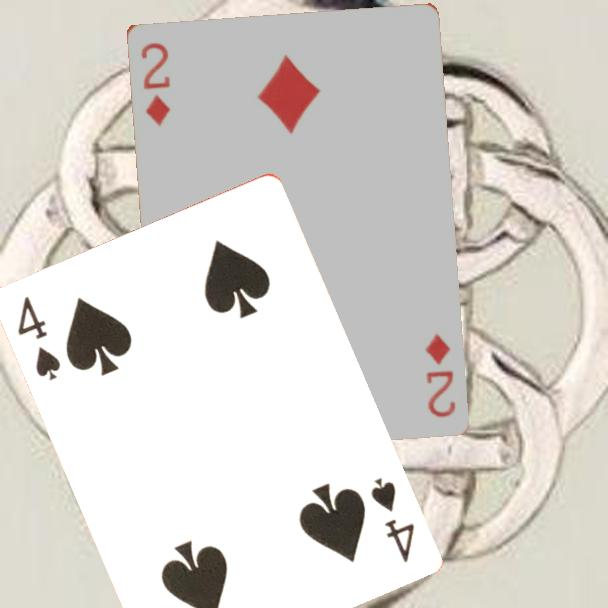d02: (421, 330, 458, 420), (137, 39, 173, 128)
s04: (366, 473, 417, 565), (13, 292, 63, 384)
